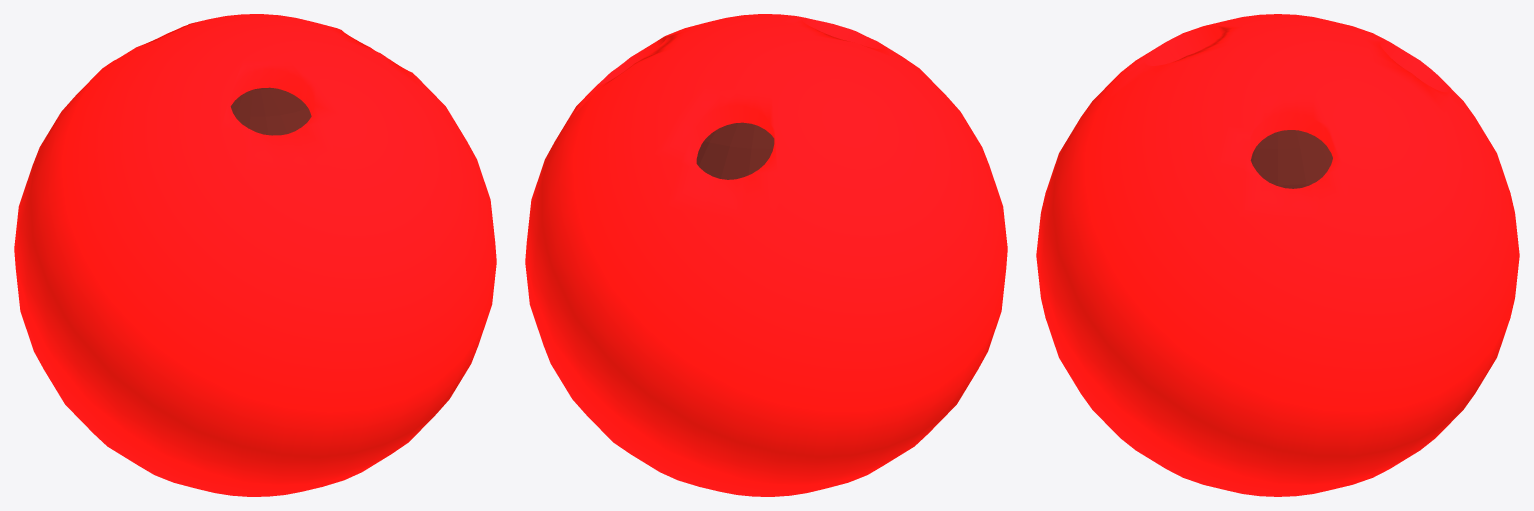
Rendered from shar.fbx.
3 views of the same model, side by side, from view 1: azimuth 30°, elevation 25°; view 2: azimuth 150°, elevation 25°; view 3: azimuth 270°, elevation 25° (orthographic).
Parts seen in each view (by area): view 1: Sphere; view 2: Sphere; view 3: Sphere.
Part boxes in pixels (x1,y1,x2,y2): Sphere: (14, 14, 496, 496); Sphere: (525, 14, 1007, 496); Sphere: (1036, 14, 1519, 496).
Size of the model in its own units: 476 by 476 by 476.
